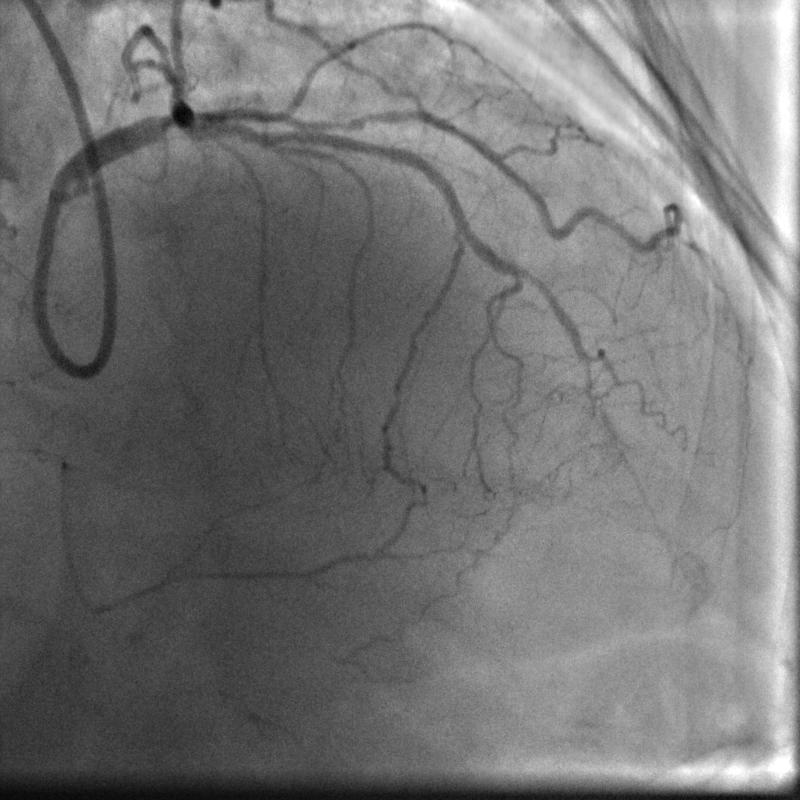Stenosis: (146, 100, 180, 139)
